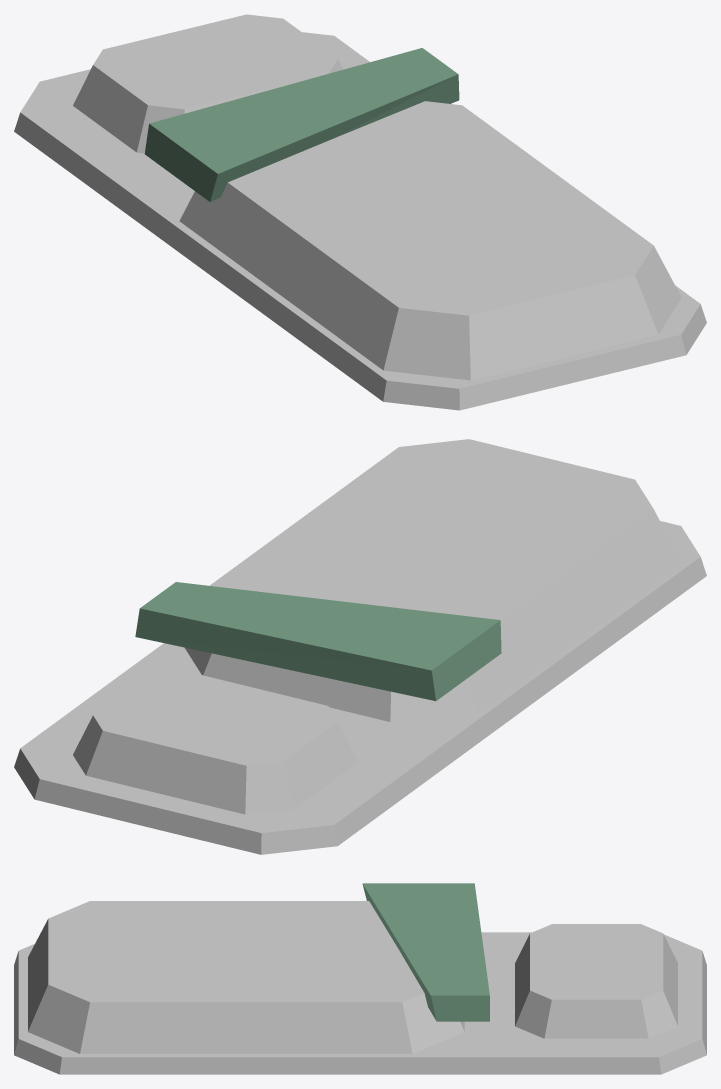
The model's file is bedroll.obj.
3 renders of one model, top to bottom at view 1: azimuth 30°, elevation 25°; view 2: azimuth 150°, elevation 25°; view 3: azimuth 270°, elevation 25°, orthographic. The views are drawn at different scales.
Visible parts, largest first — view 1: bedroll_1, bedroll_0, bedroll_3, bedroll_2; view 2: bedroll_1, bedroll_0, bedroll_2, bedroll_3; view 3: bedroll_1, bedroll_0, bedroll_2, bedroll_3.
Boxes of the visible parts, box(x1,y1,x2,y2) form: bedroll_1: box(179, 101, 681, 380); bedroll_0: box(14, 32, 706, 410); bedroll_3: box(144, 48, 459, 201); bedroll_2: box(73, 14, 343, 153); bedroll_1: box(185, 439, 681, 722); bedroll_0: box(14, 521, 706, 854); bedroll_2: box(73, 671, 357, 814); bedroll_3: box(135, 582, 501, 700); bedroll_1: box(28, 901, 464, 1053); bedroll_0: box(14, 932, 706, 1074); bedroll_2: box(515, 924, 677, 1038); bedroll_3: box(362, 883, 489, 1021).
Size of the model in its own units: 0.8 by 0.205 by 1.82.
